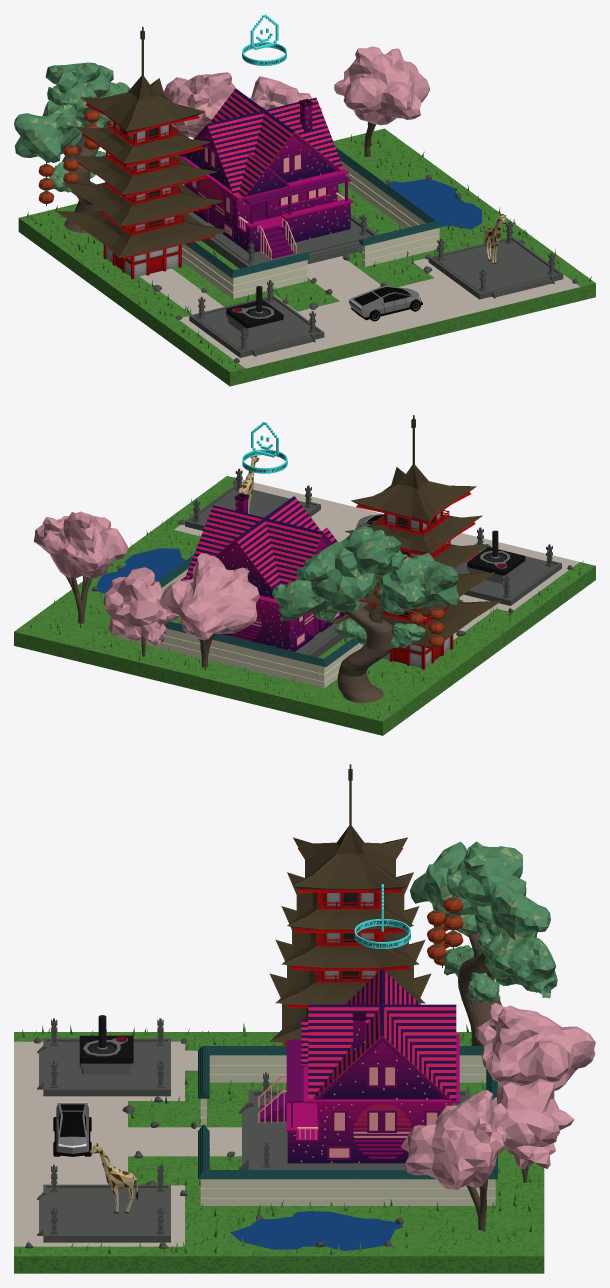
The picture shows the model from 3 angles, top to bottom: view 1: azimuth 30°, elevation 25°; view 2: azimuth 150°, elevation 25°; view 3: azimuth 270°, elevation 25°; orthographic projection. The views are drawn at different scales.
Visible parts, largest first — view 1: Cube.005, Cube.156, VEHICLES_CYBERTRUCK, OBJRANDOM_JOYSTICK, TYPE_PREMIUM, ANIMAL_JIRAFA; view 2: Cube.005, Cube.156, OBJRANDOM_JOYSTICK, TYPE_PREMIUM; view 3: Cube.005, Cube.156, OBJRANDOM_JOYSTICK, VEHICLES_CYBERTRUCK, ANIMAL_JIRAFA, TYPE_PREMIUM.
Boxes of the visible parts, <box> form: Cube.005: <box>14,26,595,386</box>; Cube.156: <box>178,88,353,259</box>; VEHICLES_CYBERTRUCK: <box>349,285,422,321</box>; OBJRANDOM_JOYSTICK: <box>226,286,283,336</box>; TYPE_PREMIUM: <box>242,14,286,65</box>; ANIMAL_JIRAFA: <box>484,214,506,263</box>; Cube.005: <box>14,415,595,735</box>; Cube.156: <box>181,493,345,651</box>; OBJRANDOM_JOYSTICK: <box>467,530,525,584</box>; TYPE_PREMIUM: <box>242,421,287,473</box>; Cube.005: <box>14,764,595,1273</box>; Cube.156: <box>258,969,459,1163</box>; OBJRANDOM_JOYSTICK: <box>79,1015,133,1074</box>; VEHICLES_CYBERTRUCK: <box>53,1102,91,1156</box>; ANIMAL_JIRAFA: <box>89,1143,138,1213</box>; TYPE_PREMIUM: <box>354,884,410,948</box>.
Bounding box in the file's own units: 4528 × 2690 × 4389.
Materials: 49 (8 with a texture image).
